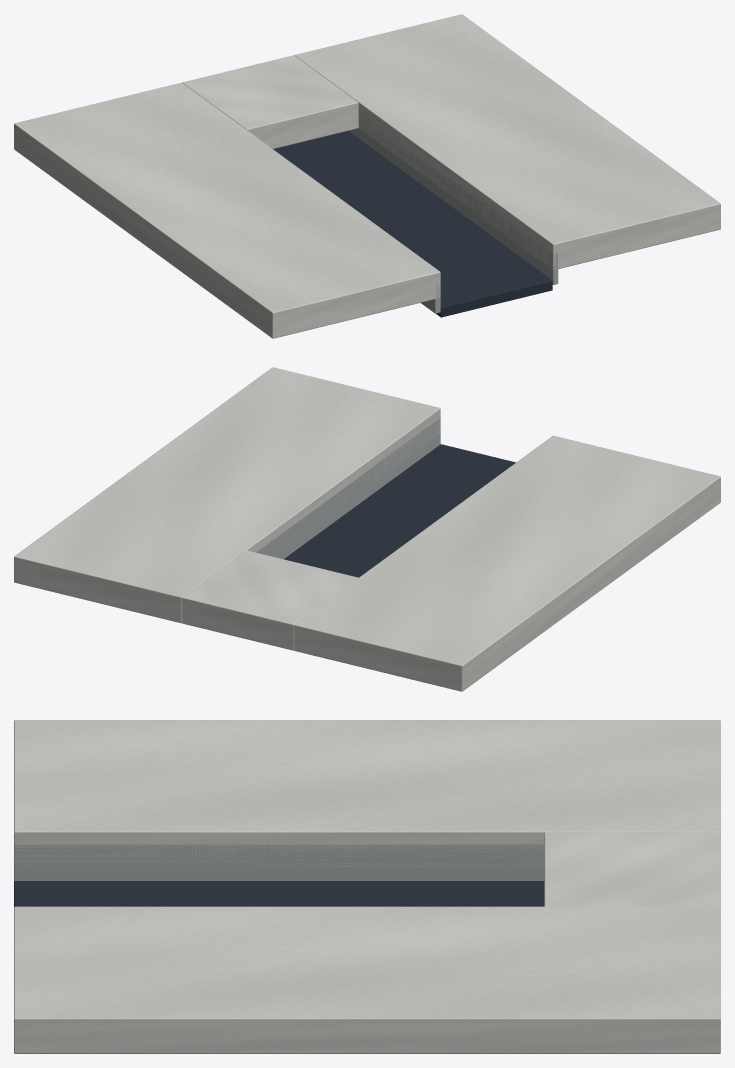
Rendered from launch_pad_base.glb.
The picture shows the model from 3 angles, top to bottom: view 1: azimuth 30°, elevation 25°; view 2: azimuth 150°, elevation 25°; view 3: azimuth 270°, elevation 25°; orthographic projection. The views are drawn at different scales.
Visible parts, largest first — view 1: Pad_Left, Pad_Right, Trench_Floor, Pad_End, Trench_RightWall; view 2: Pad_Left, Pad_Right, Trench_Floor, Pad_End, Trench_RightWall; view 3: Pad_Right, Pad_Left, Trench_LeftWall, Trench_Floor, Pad_End.
Boxes of the visible parts, bbox=[...] form: Pad_Left: bbox=[14, 82, 440, 338]; Pad_Right: bbox=[294, 14, 720, 269]; Trench_Floor: bbox=[273, 131, 552, 317]; Pad_End: bbox=[182, 55, 358, 148]; Trench_RightWall: bbox=[348, 114, 558, 284]; Pad_Left: bbox=[294, 435, 720, 691]; Pad_Right: bbox=[14, 367, 440, 623]; Trench_Floor: bbox=[284, 444, 515, 577]; Pad_End: bbox=[182, 550, 357, 650]; Trench_RightWall: bbox=[256, 418, 440, 559]; Pad_Right: bbox=[14, 906, 720, 1053]; Pad_Left: bbox=[14, 720, 720, 866]; Trench_LeftWall: bbox=[14, 844, 544, 881]; Trench_Floor: bbox=[14, 881, 544, 906]; Pad_End: bbox=[544, 832, 720, 906].
Bounding box in the file's own units: 16 × 1.57 × 16.
Materials: 3 (1 with a texture image).
